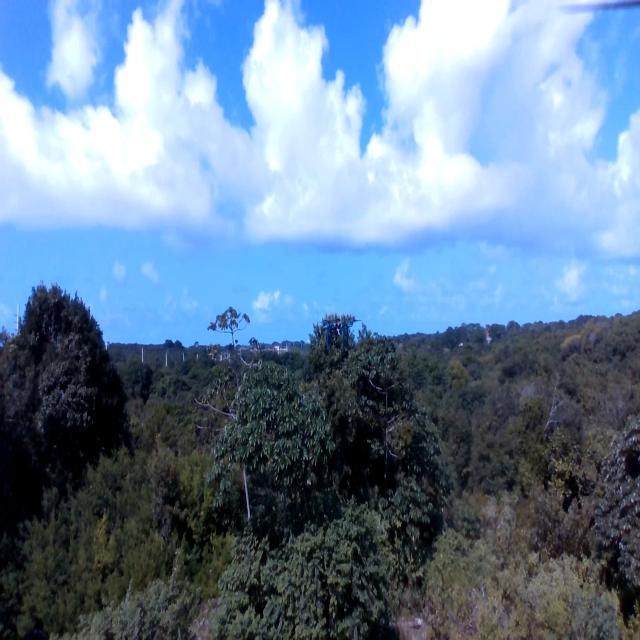-uav-: (316, 311, 365, 356)
